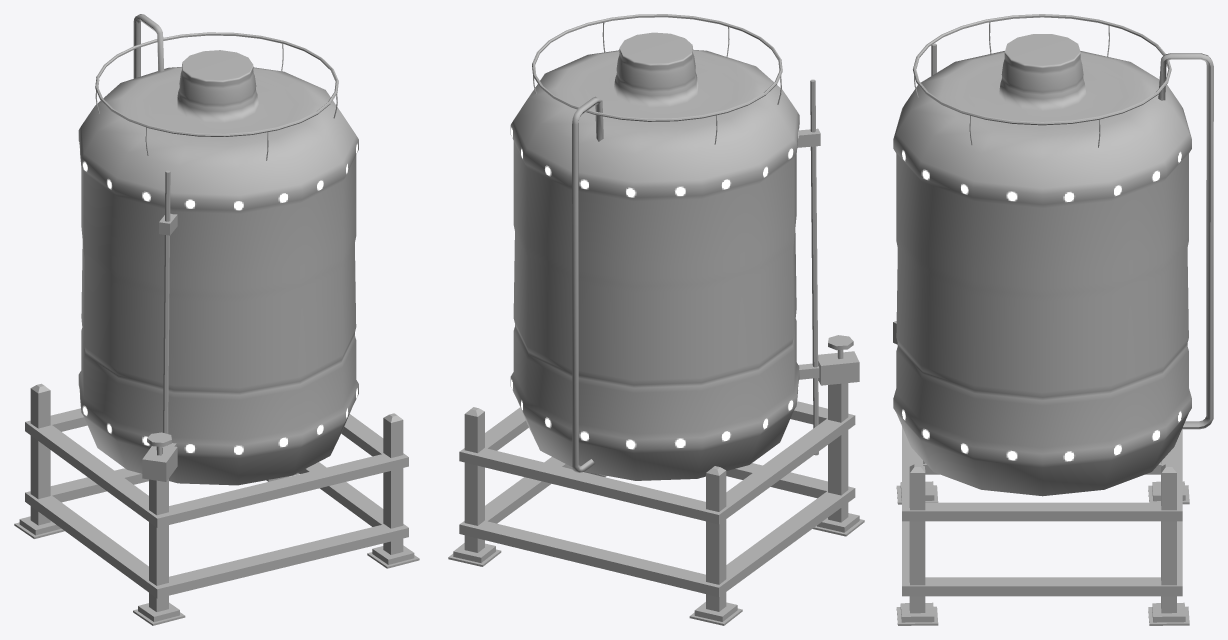
The model's file is KF_Kalonji_SM_Rooftop_WaterThank.fbx.
3 views of the same model, side by side, from view 1: azimuth 30°, elevation 25°; view 2: azimuth 150°, elevation 25°; view 3: azimuth 270°, elevation 25° (orthographic). The views are drawn at different scales.
Visible parts, largest first — view 1: Tank, Container, Circle, Steel000, Object002, Steel001; view 2: Tank, Container, Steel001, Circle, Steel000, Object002; view 3: Tank, Container, Steel001, Circle.
Part boxes in pixels (x1=…): Tank: x1=78, y1=50, x2=358, y2=485; Container: x1=14, y1=383, x2=419, y2=625; Circle: x1=95, y1=32, x2=338, y2=160; Steel000: x1=163, y1=170, x2=170, y2=445; Object002: x1=142, y1=443, x2=177, y2=481; Steel001: x1=133, y1=14, x2=164, y2=78; Tank: x1=510, y1=32, x2=799, y2=480; Container: x1=448, y1=383, x2=864, y2=625; Steel001: x1=572, y1=96, x2=603, y2=472; Circle: x1=532, y1=14, x2=782, y2=144; Steel000: x1=810, y1=79, x2=818, y2=455; Object002: x1=798, y1=351, x2=859, y2=385; Tank: x1=893, y1=34, x2=1191, y2=496; Container: x1=896, y1=426, x2=1189, y2=625; Steel001: x1=1158, y1=53, x2=1213, y2=429; Circle: x1=913, y1=14, x2=1171, y2=147.
Bounding box in the file's own units: 228 × 385 × 221.
